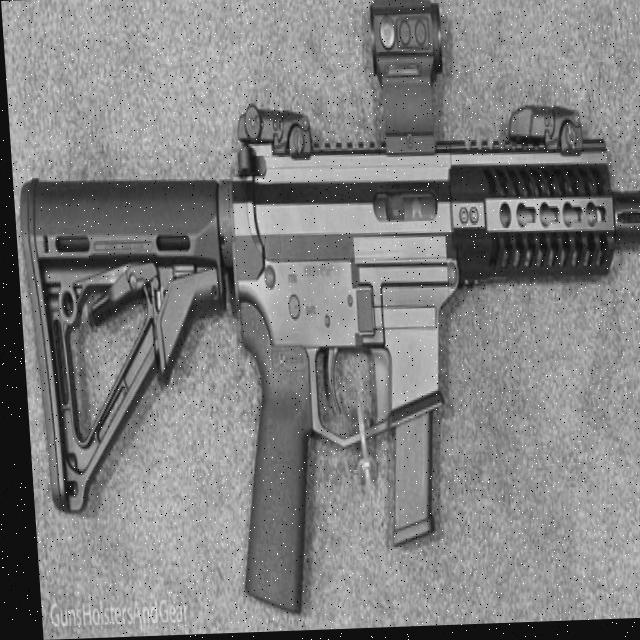firearm: (2, 0, 640, 624)
